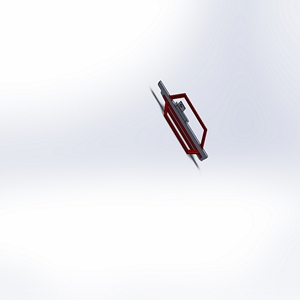submarine: (148, 73, 216, 170)
